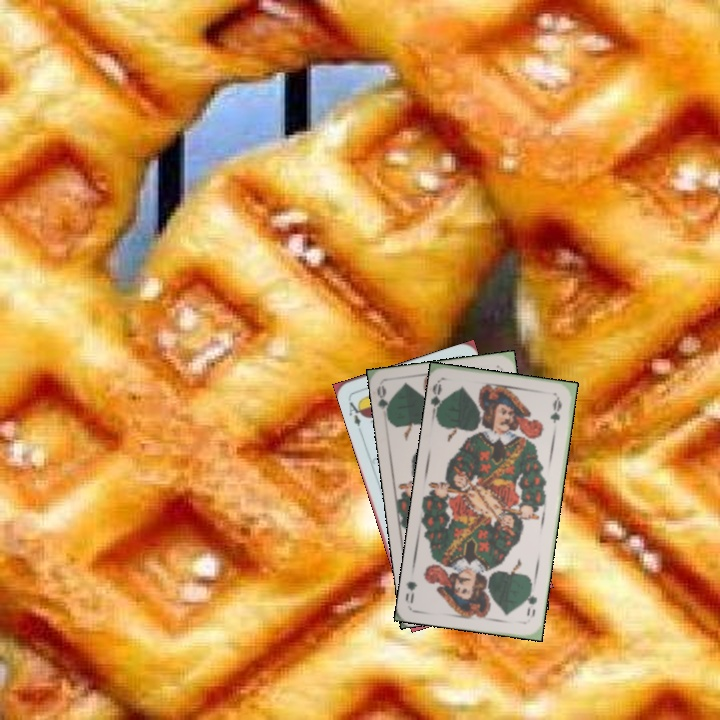EA: (344, 394, 367, 429)
GO: (372, 383, 394, 423), (428, 378, 449, 419), (522, 582, 540, 619)
